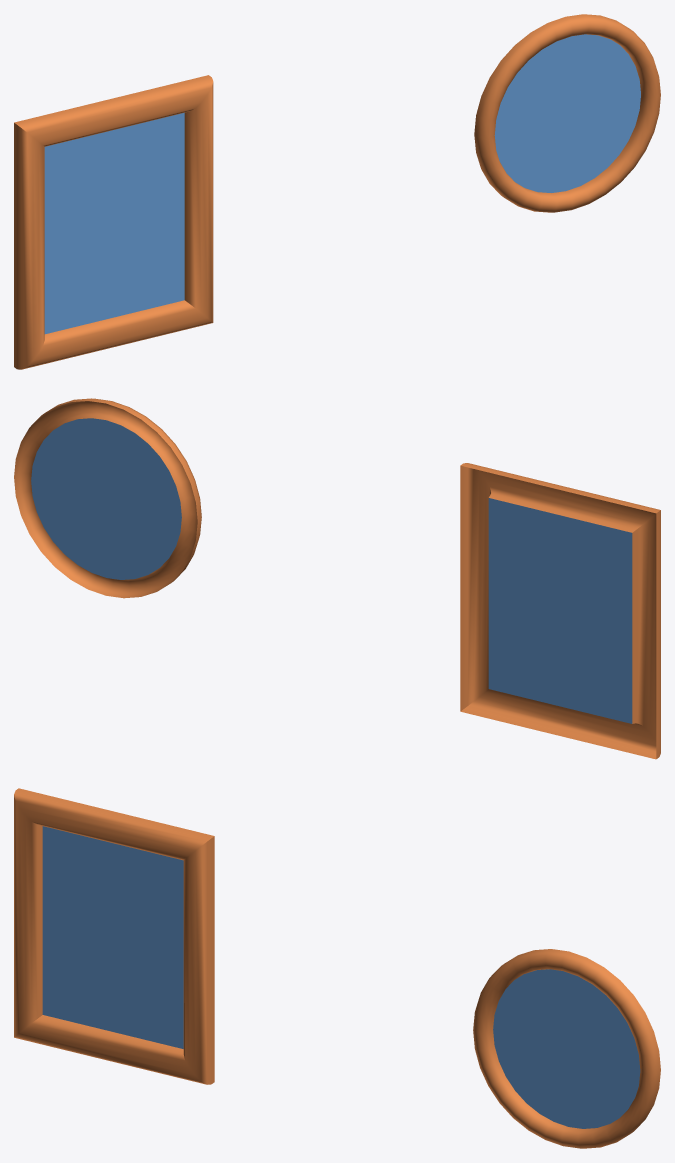
The model's file is Paintings.fbx.
3 renders of one model, top to bottom at view 1: azimuth 30°, elevation 25°; view 2: azimuth 150°, elevation 25°; view 3: azimuth 330°, elevation 25°, orthographic.
Visible parts, largest first — view 1: Square_Frame, Round_Frame; view 2: Square_Frame, Round_Frame; view 3: Square_Frame, Round_Frame.
Boxes of the visible parts, box(x1,y1,x2,y2) form: Square_Frame: box(14, 75, 213, 369); Round_Frame: box(474, 14, 660, 212); Square_Frame: box(460, 463, 660, 759); Round_Frame: box(14, 398, 201, 598); Square_Frame: box(14, 788, 214, 1084); Round_Frame: box(473, 949, 660, 1148).
Bounding box in the file's own units: 2.83 × 0.073 × 1.03.
